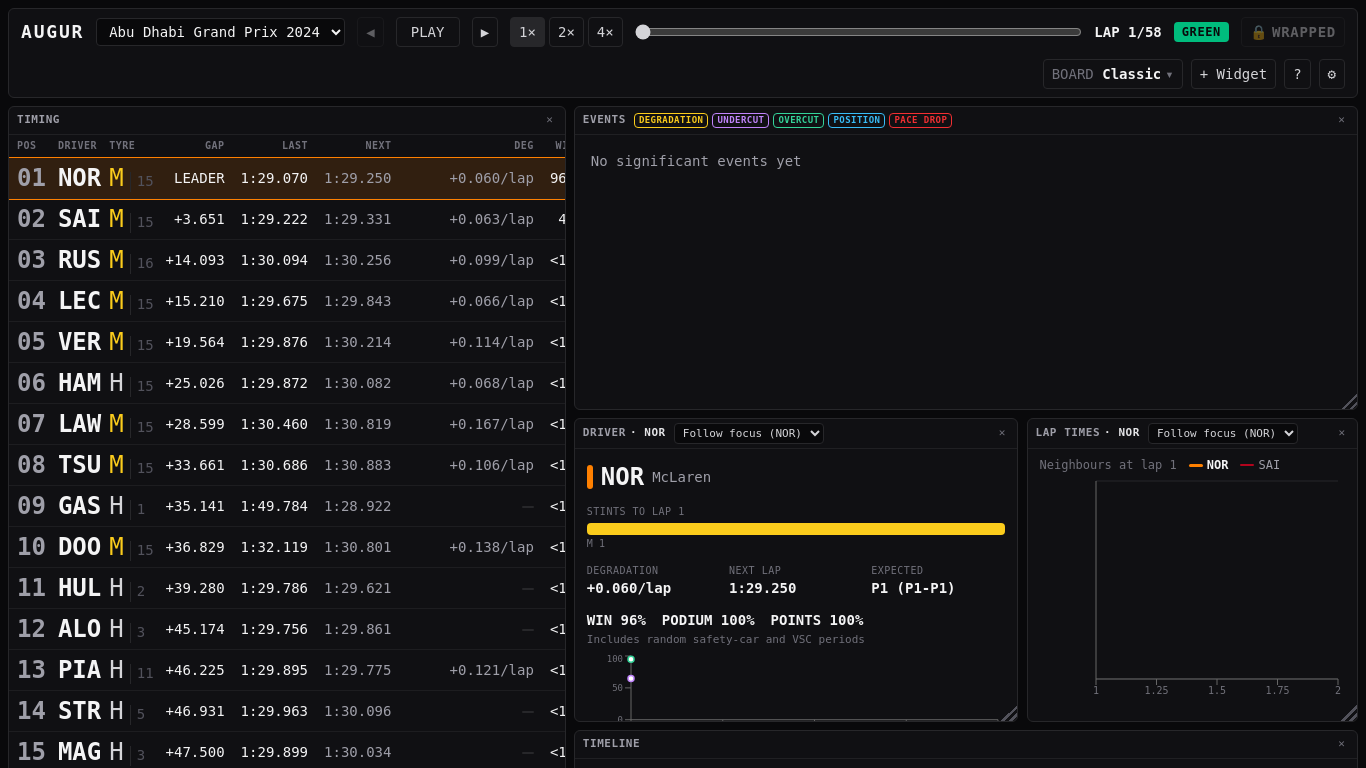
Event timeline navigation › jumps from lap 40 to lap 12, stops playback, and shows only markers up to lap 12
This screenshot has width=1366, height=768.
Set the slider named "Lap" to "40". click: (938, 32)
box: [635,24,1082,40]
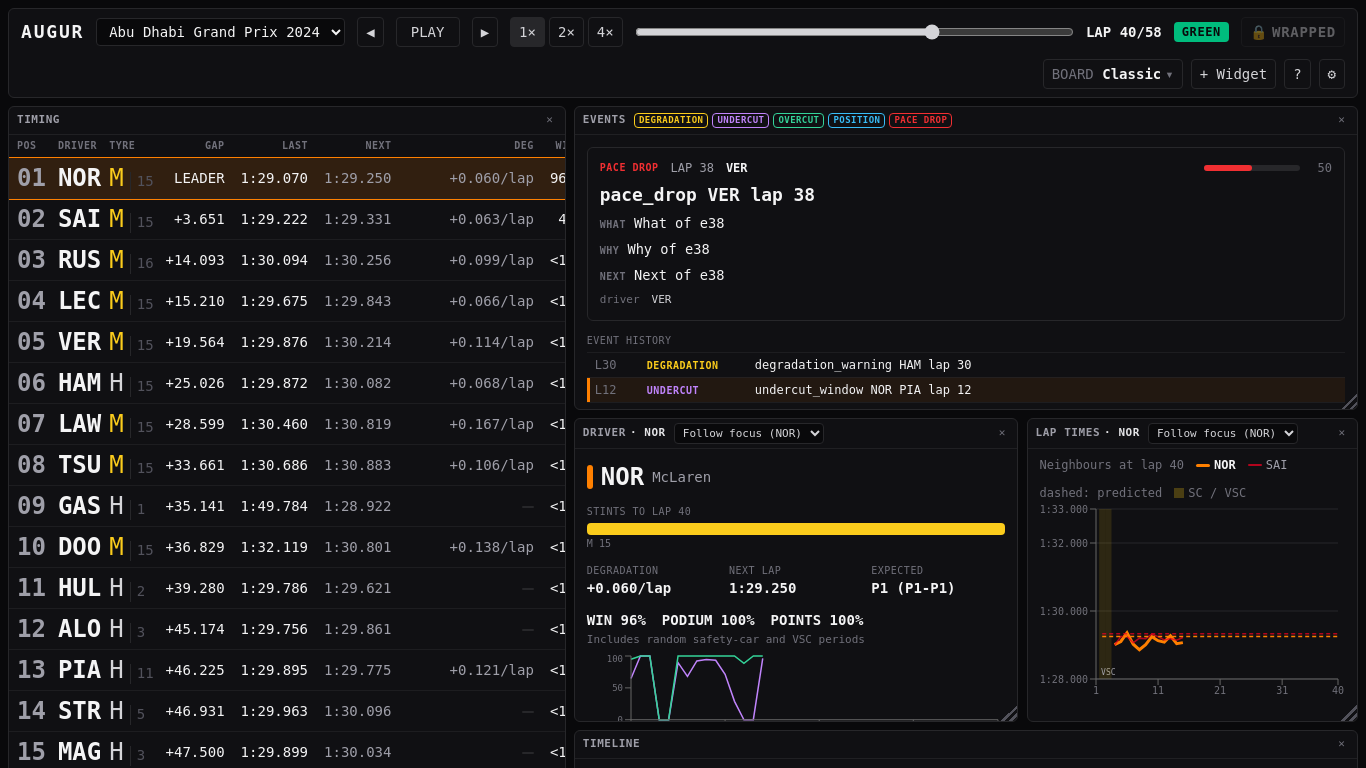
Click the button "PLAY". click: (428, 32)
box: [396,17,460,47]
(page scrolled)
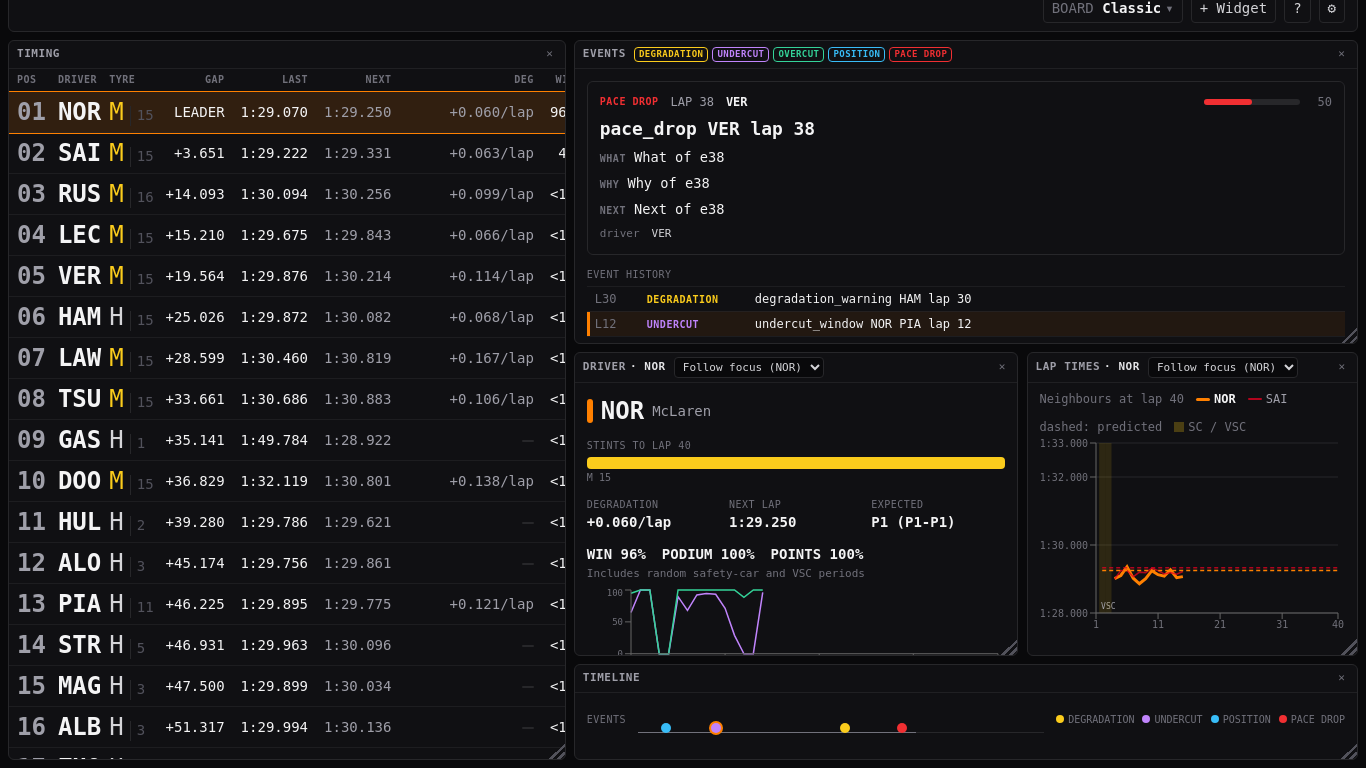
Click the 2nd button with test id "timeline-marker". click: (716, 728)
box: [711,723,721,733]
Wait 2000 ms
(page scrolled)
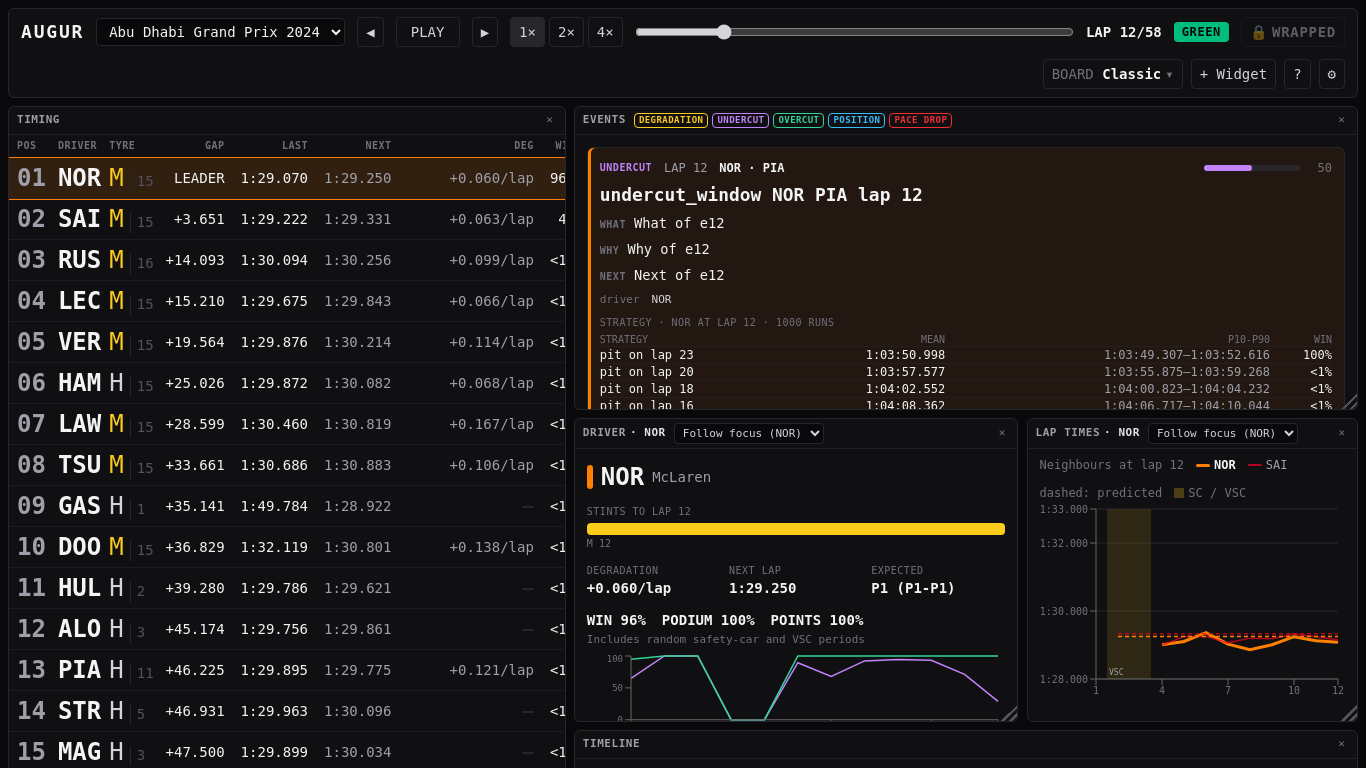
Expected: the button "PLAY" is shown, [396,17,460,47]
Expected: the text with test id "lap-count" reads "LAP 12/58", [1086,22,1162,42]
